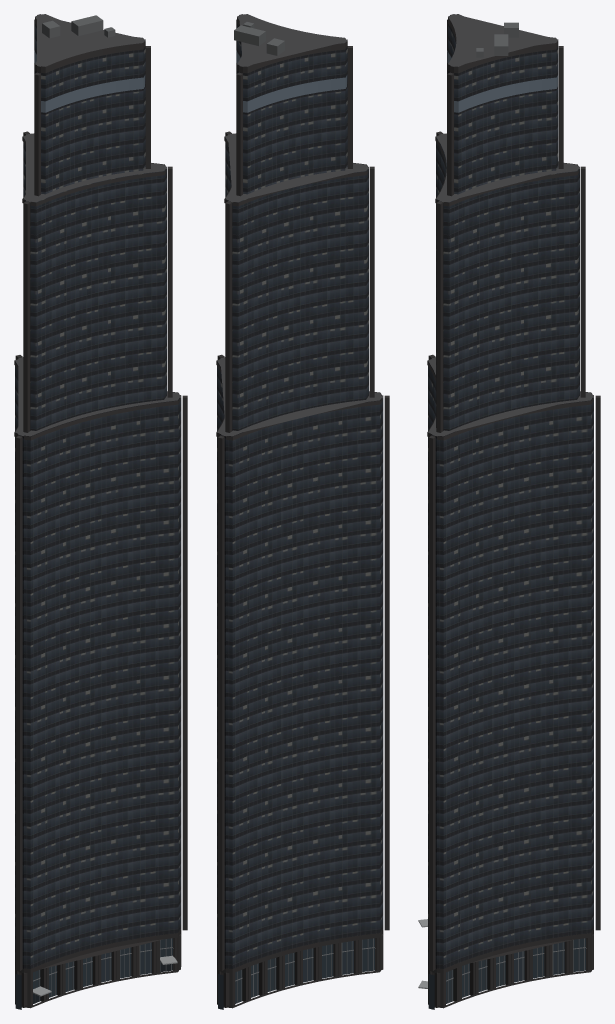
Rendered from columbia_center.glb.
3 renders of one model, left to right at view 1: azimuth 30°, elevation 25°; view 2: azimuth 150°, elevation 25°; view 3: azimuth 270°, elevation 25°, orthographic.
Visible parts, largest first — view 1: columbia_center; view 2: columbia_center; view 3: columbia_center.
Part boxes in pixels (box(x1,y1,x2,y2)): columbia_center: box(14, 14, 187, 1009); columbia_center: box(216, 14, 389, 1009); columbia_center: box(418, 14, 600, 1009).
Size of the model in its own units: 55.07 by 287 by 50.55.
2 materials, 2 textured.
